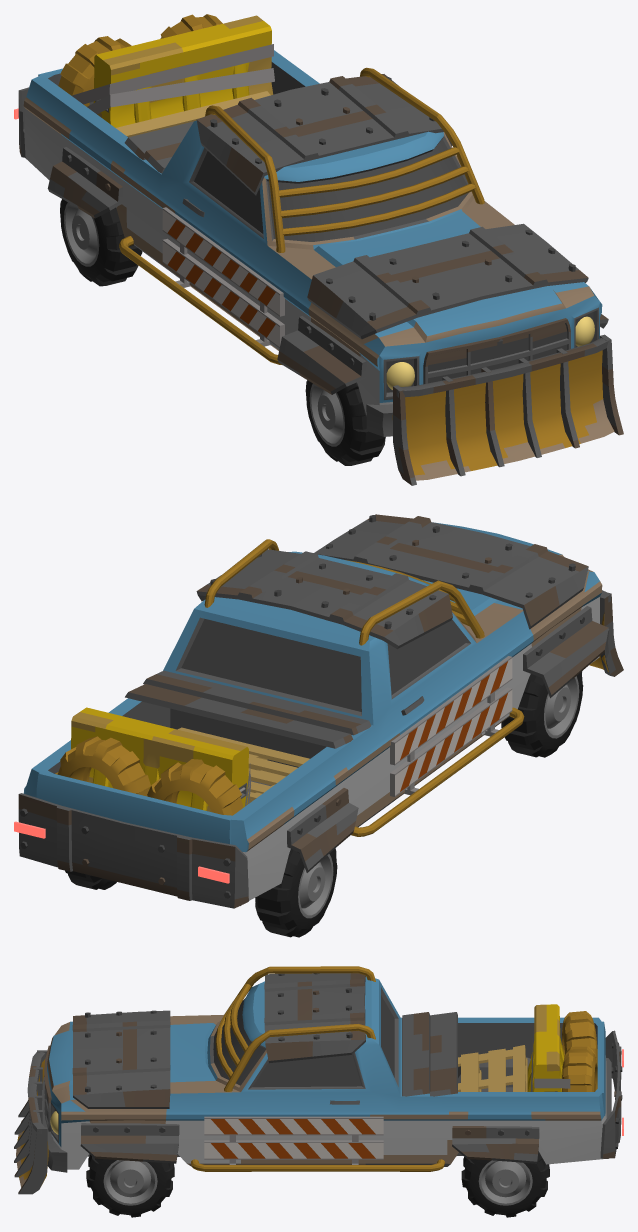
The model's file is pickup.glb.
The picture shows the model from 3 angles, top to bottom: view 1: azimuth 30°, elevation 25°; view 2: azimuth 150°, elevation 25°; view 3: azimuth 270°, elevation 25°; orthographic projection. The views are drawn at different scales.
Parts seen in each view (by area): view 1: body, wheel-front-right, wheel-back-right; view 2: body, wheel-back-right, wheel-front-right, tail markers; view 3: body, wheel-front-left, wheel-back-left.
Part boxes in pixels (x1=…): body: x1=18, y1=14, x2=623, y2=485; wheel-front-right: x1=305, y1=380, x2=385, y2=465; wheel-back-right: x1=60, y1=199, x2=142, y2=286; body: x1=18, y1=514, x2=623, y2=908; wheel-back-right: x1=255, y1=848, x2=337, y2=937; wheel-front-right: x1=501, y1=671, x2=583, y2=757; tail markers: x1=14, y1=821, x2=229, y2=883; body: x1=14, y1=966, x2=622, y2=1194; wheel-front-left: x1=86, y1=1154, x2=174, y2=1217; wheel-back-left: x1=461, y1=1151, x2=549, y2=1217.
Bounding box in the file's own units: 2.26 × 1.88 × 5.72.
Materials: 3 (1 with a texture image).
